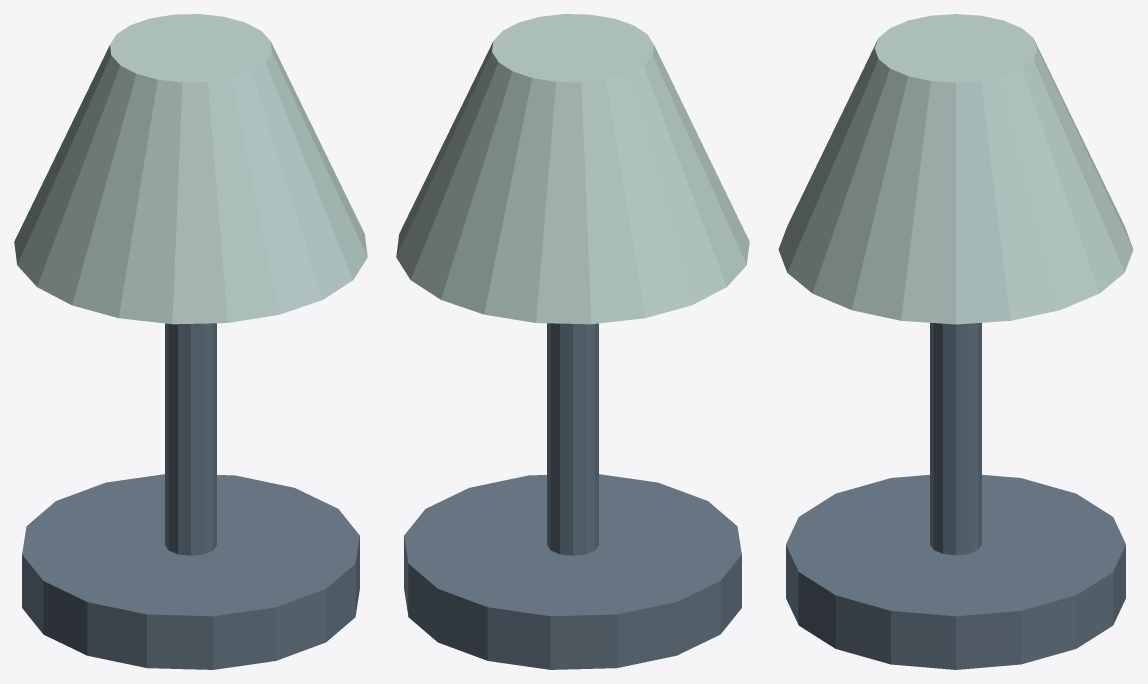
File: desk_lamp.glb
3 views of the same model, side by side, from view 1: azimuth 30°, elevation 25°; view 2: azimuth 150°, elevation 25°; view 3: azimuth 270°, elevation 25° (orthographic).
Visible parts, largest first — view 1: Adjustable shade, Weighted base, Lower stem; view 2: Adjustable shade, Weighted base, Lower stem; view 3: Adjustable shade, Weighted base, Lower stem.
Part boxes in pixels (x1,y1,x2,y2): Adjustable shade: [14, 14, 367, 324]; Weighted base: [22, 474, 359, 669]; Lower stem: [165, 323, 216, 555]; Adjustable shade: [396, 14, 749, 324]; Weighted base: [404, 474, 741, 669]; Lower stem: [547, 323, 598, 555]; Adjustable shade: [778, 14, 1133, 324]; Weighted base: [786, 474, 1125, 669]; Lower stem: [930, 322, 981, 555].
Size of the model in its own units: 0.48 by 0.82 by 0.48.
